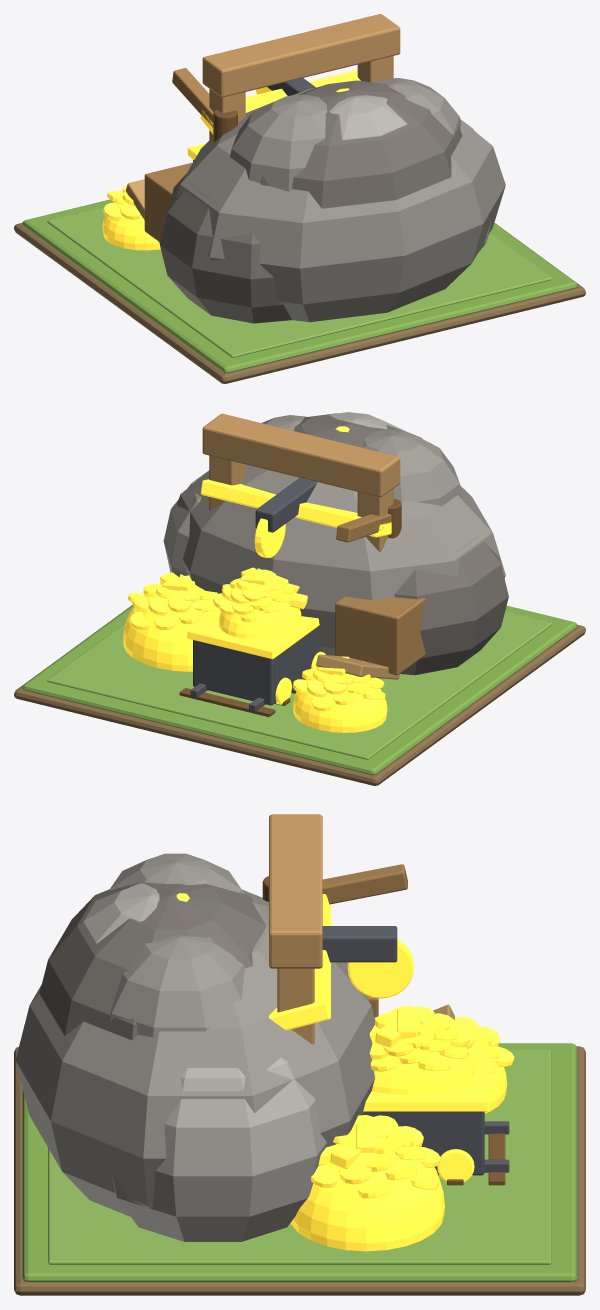
File: gold_mine_lv5.glb
The picture shows the model from 3 angles, top to bottom: view 1: azimuth 30°, elevation 25°; view 2: azimuth 150°, elevation 25°; view 3: azimuth 270°, elevation 25°; orthographic projection. The views are drawn at different scales.
Visible parts, largest first — view 1: MineRock_0, Base_Inner, MineRock_3, Base_Grass, MineRock_1, GM_GantryBridge, Base_Dirt, MineRock_4, MineRock_6, OreHopperBin, MineRock_5, GoldMoundBase.002 (+6 smaller); view 2: MineRock_0, Base_Inner, Base_Grass, MineRock_1, GM_GantryBridge, Base_Dirt, OreHopperBin, MinecartBody, MineRock_4, GoldMoundBase.001, GoldMoundBase.002, MinecartRim (+12 smaller); view 3: MineRock_0, Base_Inner, MineRock_2, Base_Grass, MineRock_3, Base_Dirt, MineRock_5, GoldMoundBase.001, GM_GantryBridge, MinecartBody, MinecartRim, MineRock_4 (+11 smaller).
Boxes of the visible parts, bbox=[...] form: MineRock_0: bbox=[176, 88, 505, 322]; Base_Inner: bbox=[47, 207, 552, 357]; MineRock_3: bbox=[260, 80, 462, 208]; Base_Grass: bbox=[22, 199, 577, 372]; MineRock_1: bbox=[160, 174, 291, 323]; GM_GantryBridge: bbox=[202, 14, 400, 97]; Base_Dirt: bbox=[14, 222, 585, 383]; MineRock_4: bbox=[230, 94, 327, 191]; MineRock_6: bbox=[329, 95, 407, 140]; OreHopperBin: bbox=[144, 162, 192, 242]; MineRock_5: bbox=[375, 78, 461, 138]; GoldMoundBase.002: bbox=[102, 201, 160, 250]; MineRock_0: bbox=[177, 464, 505, 655]; Base_Inner: bbox=[47, 611, 552, 759]; Base_Grass: bbox=[22, 605, 577, 774]; MineRock_1: bbox=[394, 536, 508, 675]; GM_GantryBridge: bbox=[202, 413, 400, 497]; Base_Dirt: bbox=[14, 605, 585, 785]; OreHopperBin: bbox=[335, 596, 425, 675]; MinecartBody: bbox=[193, 628, 322, 705]; MineRock_4: bbox=[363, 429, 463, 506]; GoldMoundBase.001: bbox=[123, 586, 217, 671]; GoldMoundBase.002: bbox=[293, 674, 387, 732]; MinecartRim: bbox=[187, 608, 319, 659]; MineRock_0: bbox=[15, 889, 375, 1216]; Base_Inner: bbox=[48, 1050, 551, 1264]; MineRock_2: bbox=[111, 1057, 326, 1241]; Base_Grass: bbox=[22, 1043, 577, 1281]; MineRock_3: bbox=[39, 882, 266, 1040]; Base_Dirt: bbox=[14, 1046, 585, 1295]; MineRock_5: bbox=[110, 935, 244, 1037]; GoldMoundBase.001: bbox=[291, 1129, 444, 1251]; GM_GantryBridge: bbox=[269, 814, 322, 968]; MinecartBody: bbox=[363, 1111, 484, 1175]; MinecartRim: bbox=[363, 1045, 489, 1111]; MineRock_4: bbox=[109, 853, 244, 893].
Size of the model in its own units: 2.76 by 1.84 by 2.76.
